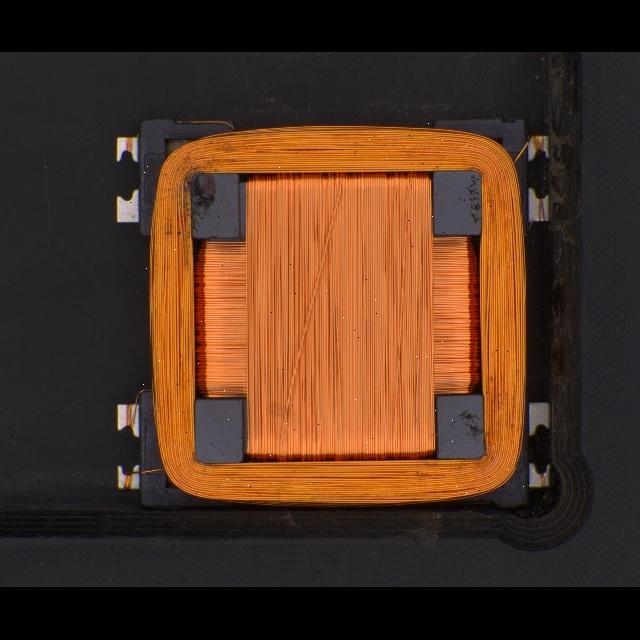Winding_Z: (124, 120, 532, 509)
